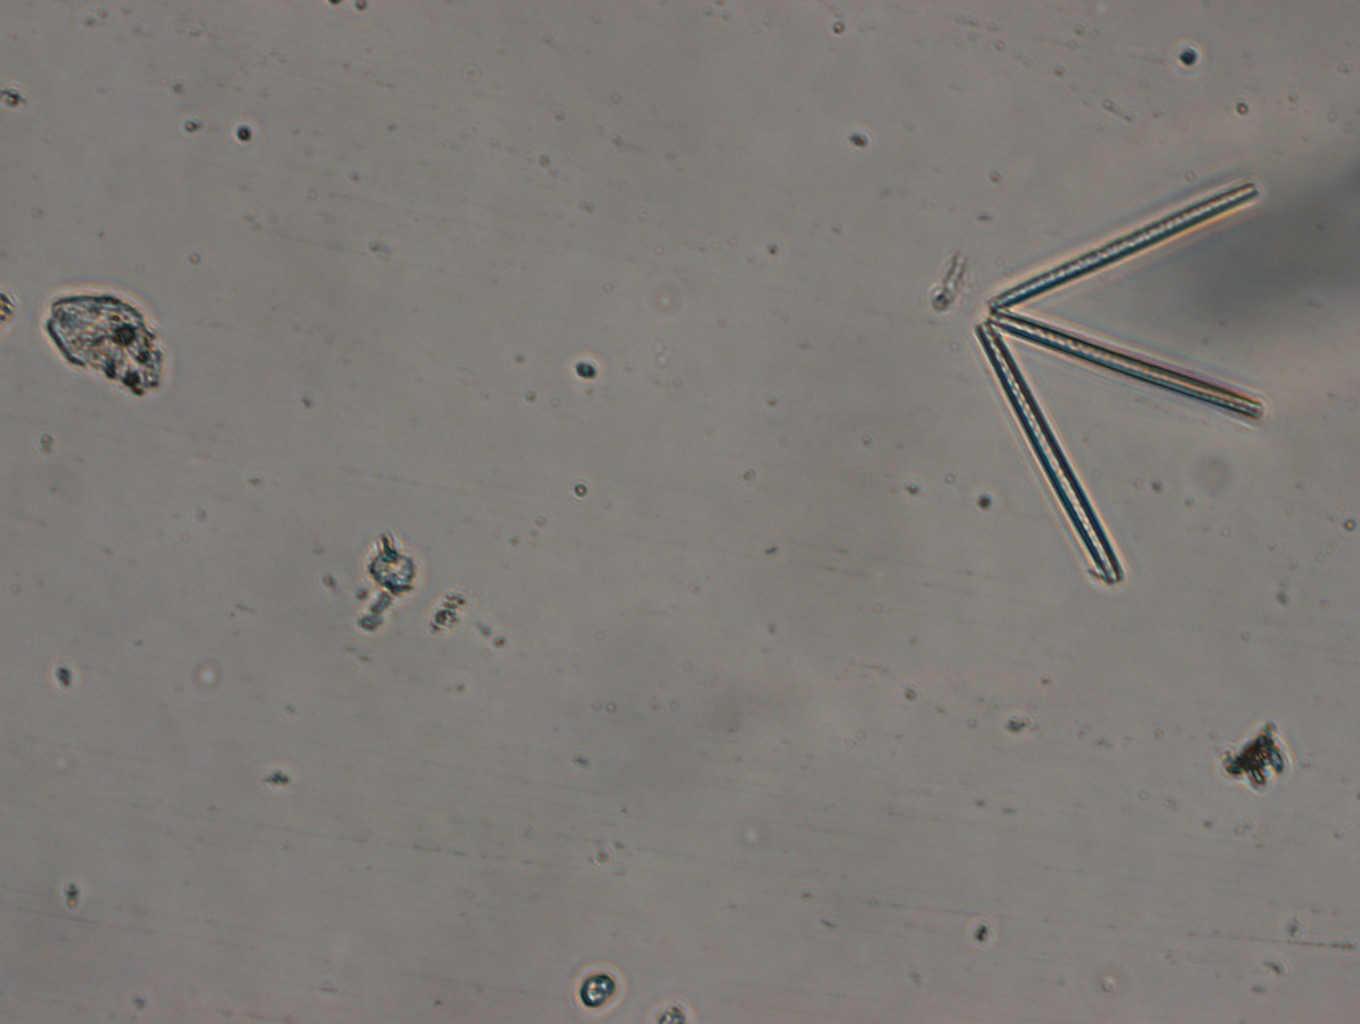thalassionema frauenfeldii: (963, 180, 1284, 600)
